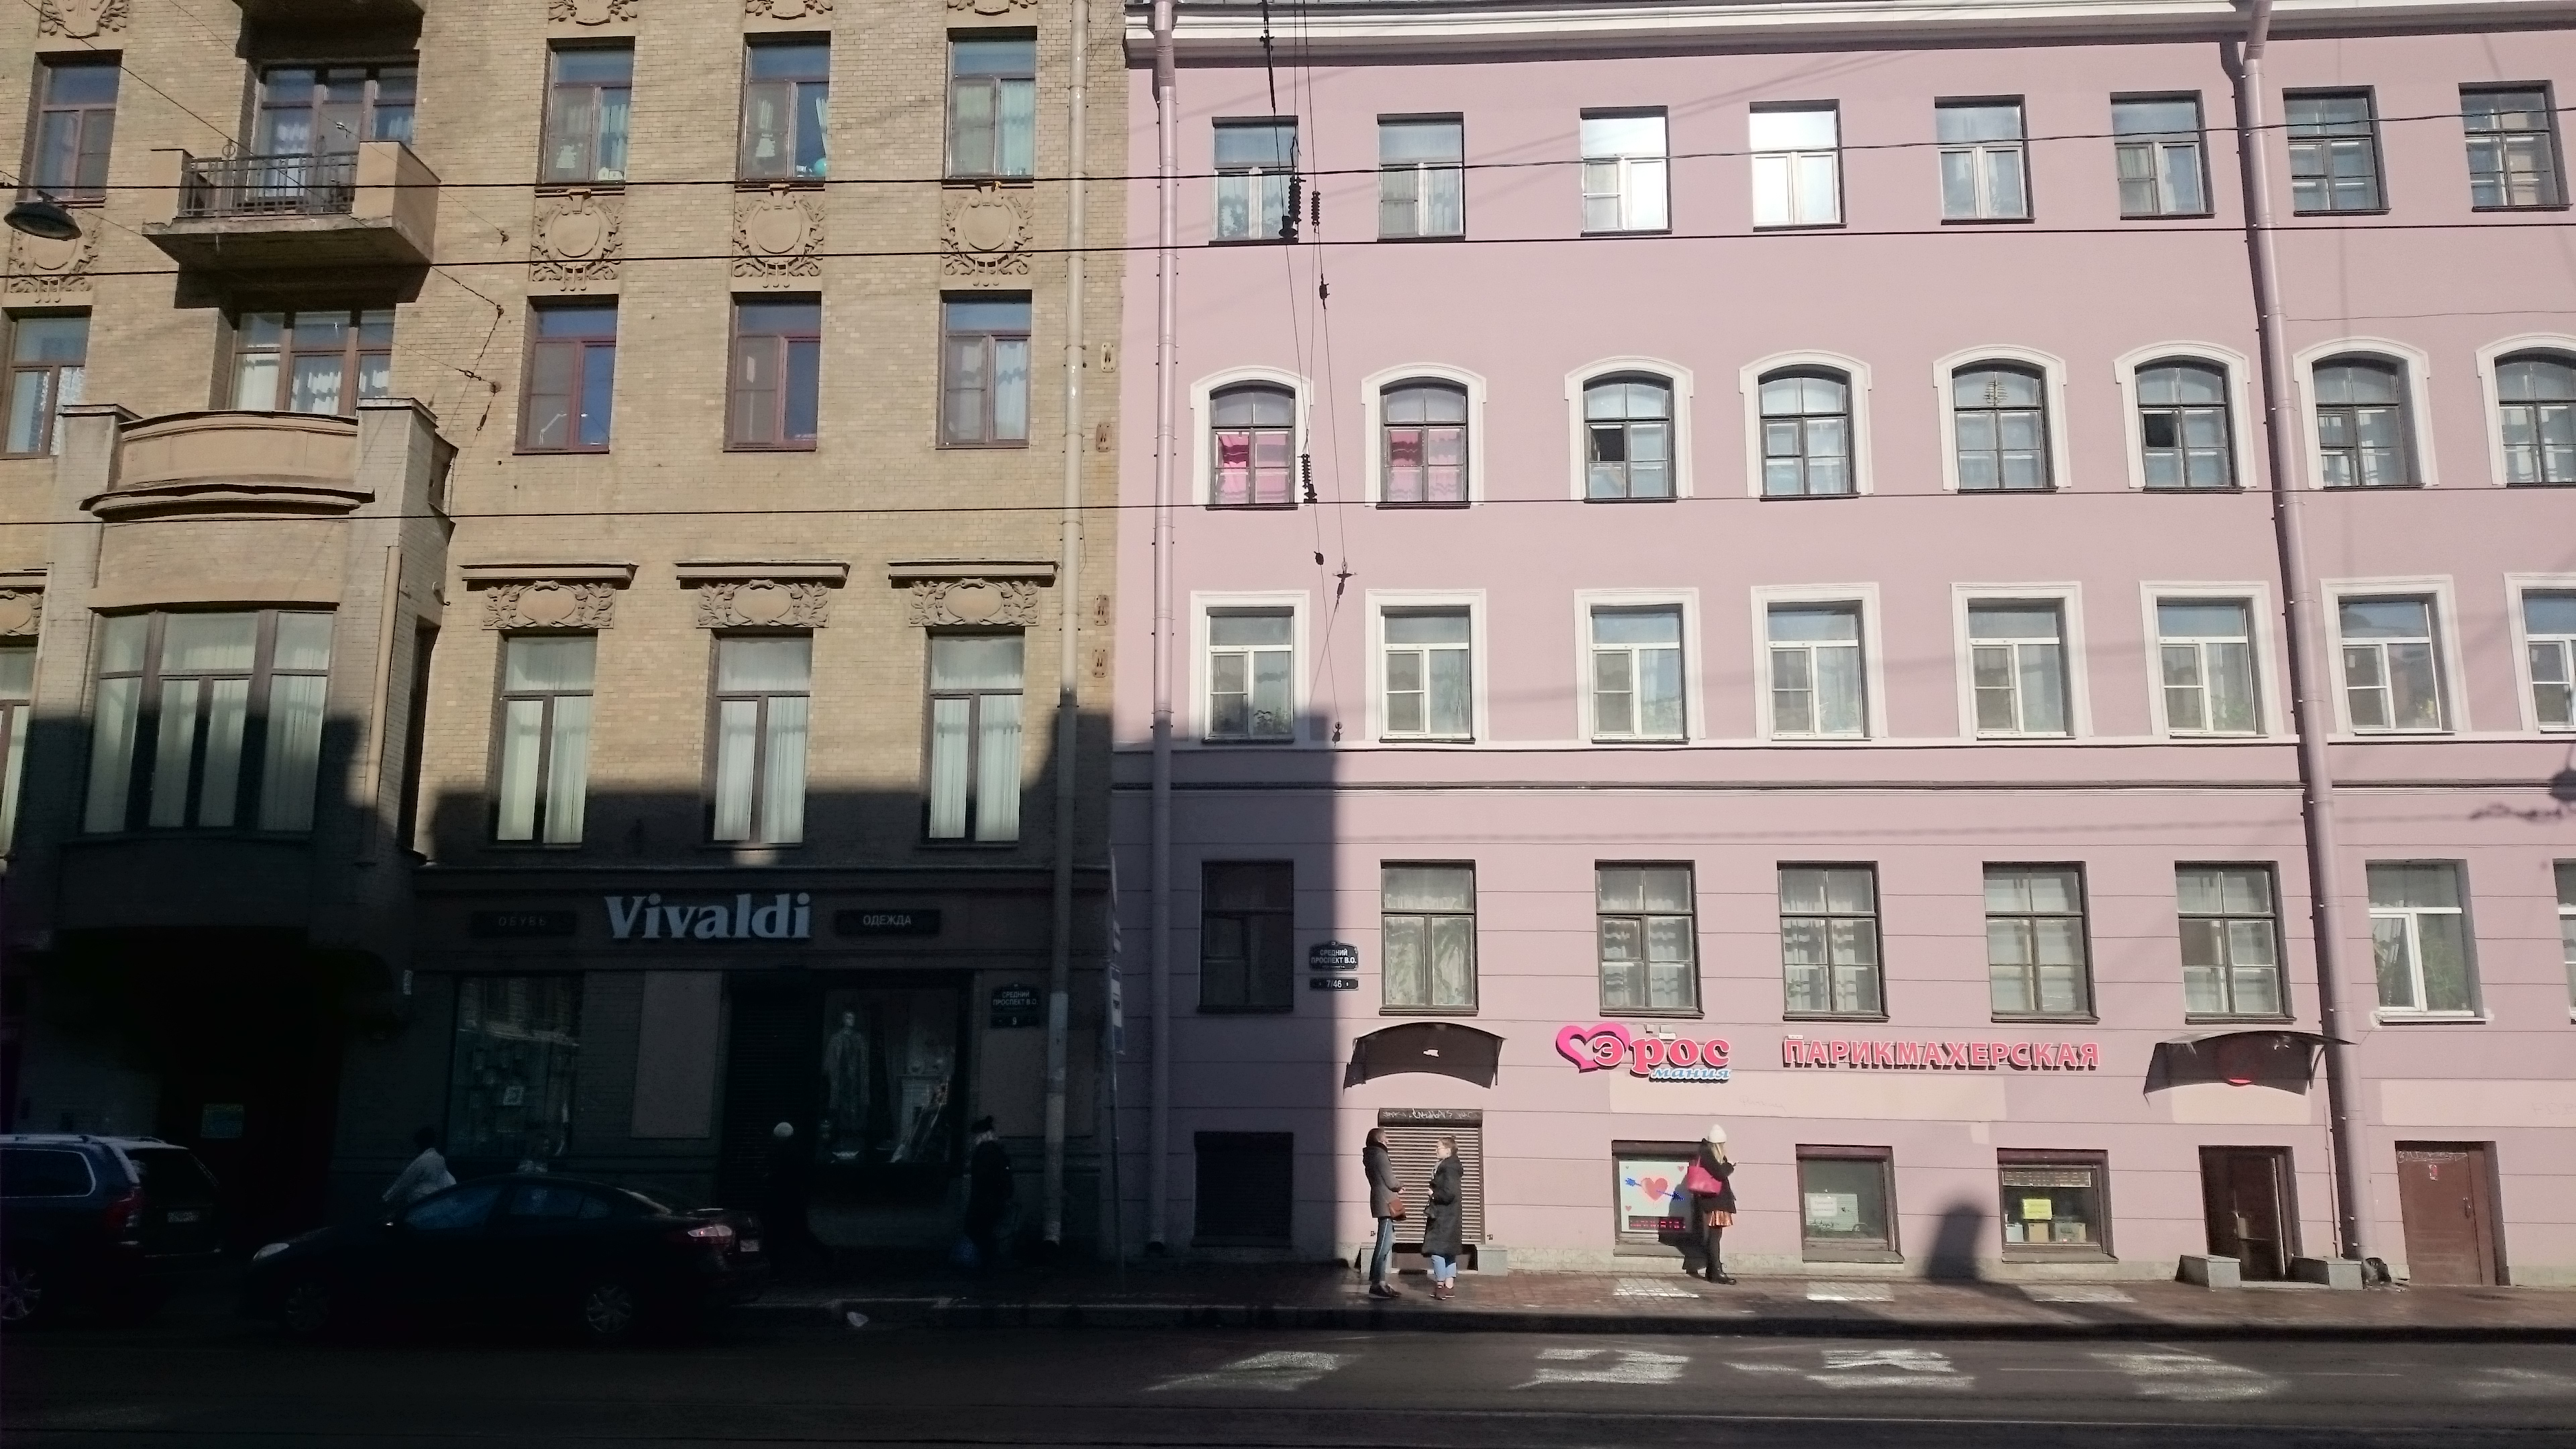door: (2396, 1143, 2516, 1293)
signboard: (1550, 1023, 2105, 1086), (594, 883, 819, 943)
window: (92, 602, 329, 832), (488, 630, 602, 844), (706, 628, 814, 842), (249, 60, 405, 202), (932, 630, 1019, 846), (2367, 855, 2480, 1017), (237, 299, 387, 421), (1592, 855, 1702, 1016), (1980, 858, 2089, 1017), (1769, 862, 1882, 1016), (2176, 862, 2284, 1019), (2335, 594, 2452, 738), (2456, 87, 2574, 219), (722, 297, 823, 451), (732, 35, 833, 184), (515, 306, 614, 456), (538, 41, 632, 195), (941, 295, 1035, 446), (1953, 347, 2047, 494), (1580, 366, 1679, 501), (1766, 600, 1859, 741), (2158, 603, 2252, 743), (1760, 361, 1851, 504), (0, 315, 88, 460), (1203, 370, 1299, 502), (1587, 610, 1681, 745), (2318, 350, 2403, 497), (1934, 99, 2033, 225), (2146, 347, 2233, 490), (1384, 865, 1470, 1008), (1994, 1141, 2104, 1254), (2112, 94, 2210, 221), (1384, 373, 1477, 504), (948, 35, 1030, 186), (1380, 609, 1477, 734), (2279, 90, 2380, 211), (21, 53, 110, 189), (1796, 1138, 1893, 1260), (1983, 596, 2061, 747), (1578, 111, 1672, 235), (1746, 108, 1840, 226), (1212, 119, 1300, 244), (1215, 610, 1297, 741), (2503, 341, 2576, 488), (1380, 115, 1465, 234), (2512, 586, 2576, 725), (1610, 1146, 1695, 1238)
